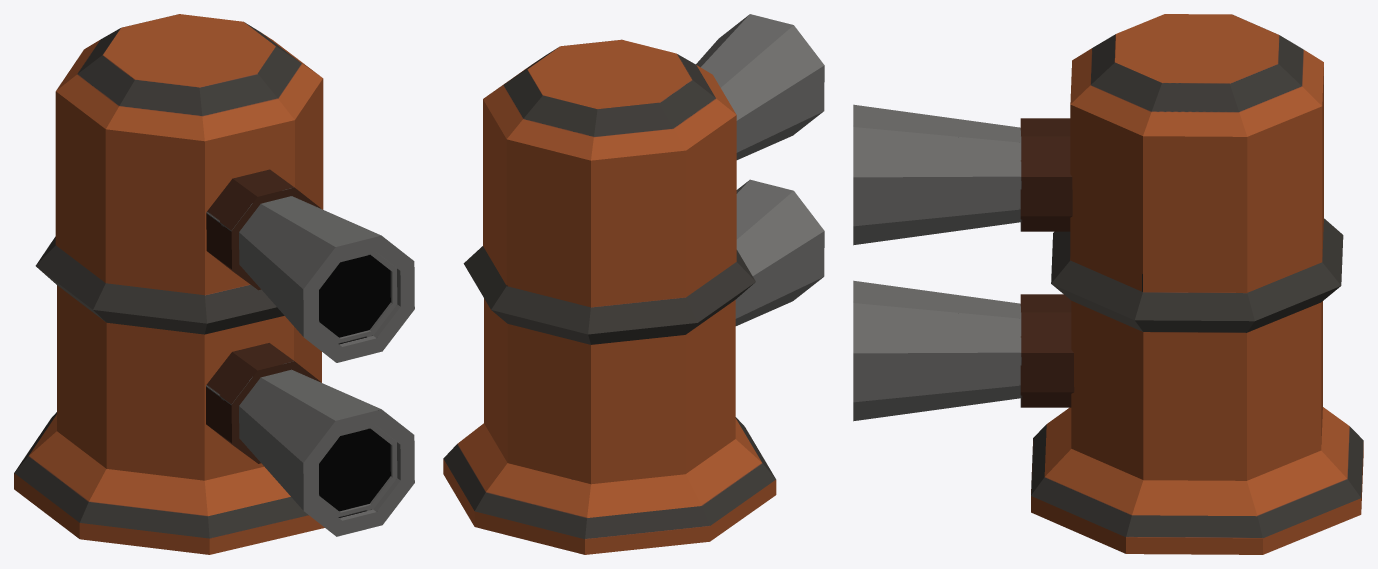
Rendered from tower2.fbx.
The picture shows the model from 3 angles, left to right: view 1: azimuth 30°, elevation 25°; view 2: azimuth 150°, elevation 25°; view 3: azimuth 270°, elevation 25°; orthographic projection. The views are drawn at different scales.
Visible parts, largest first — view 1: turret2, tbarrel2.001, tbarrel2; view 2: turret2, tbarrel2, tbarrel2.001; view 3: turret2, tbarrel2.001, tbarrel2.
Part boxes in pixels (x1,y1,x2,y2): turret2: (14,14,324,554); tbarrel2.001: (206,343,414,536); tbarrel2: (206,169,414,362); turret2: (443,39,776,554); tbarrel2: (696,14,824,159); tbarrel2.001: (735,179,824,325); turret2: (1031,14,1363,554); tbarrel2.001: (853,280,1074,421); tbarrel2: (853,104,1072,245).
Bounding box in the file's own units: 549 × 794 × 842.
Materials: 2 (2 with a texture image).
